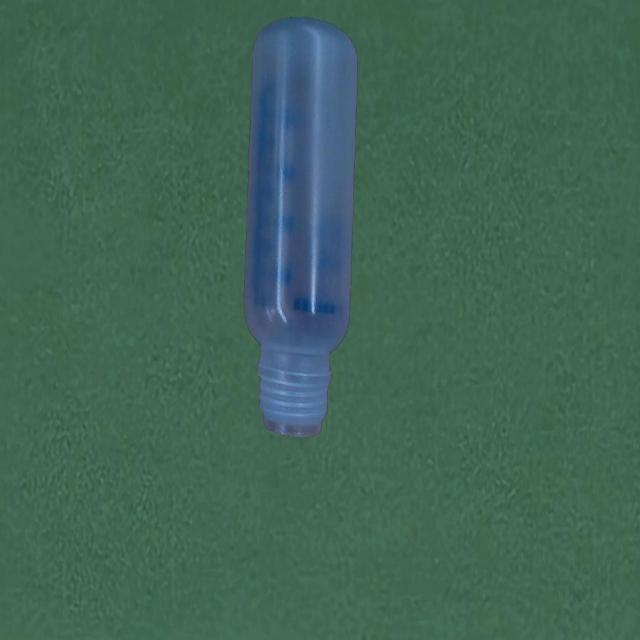bottle: (242, 16, 360, 442)
